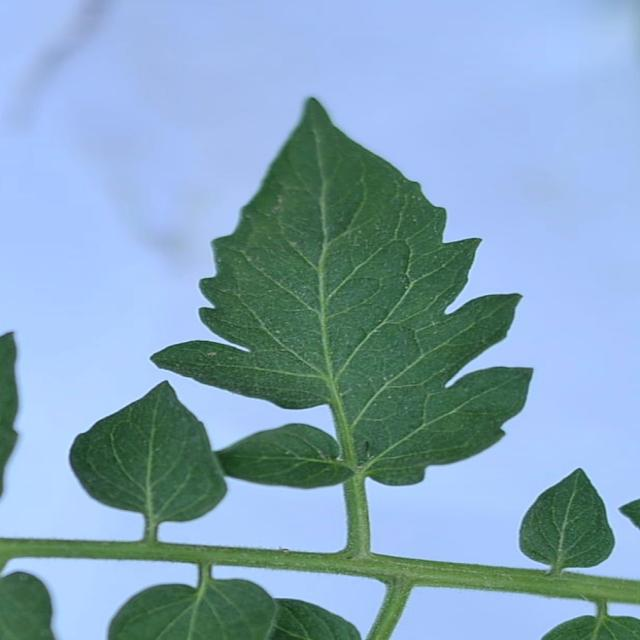healthy: (149, 85, 543, 487), (65, 378, 234, 548), (506, 459, 618, 583)
